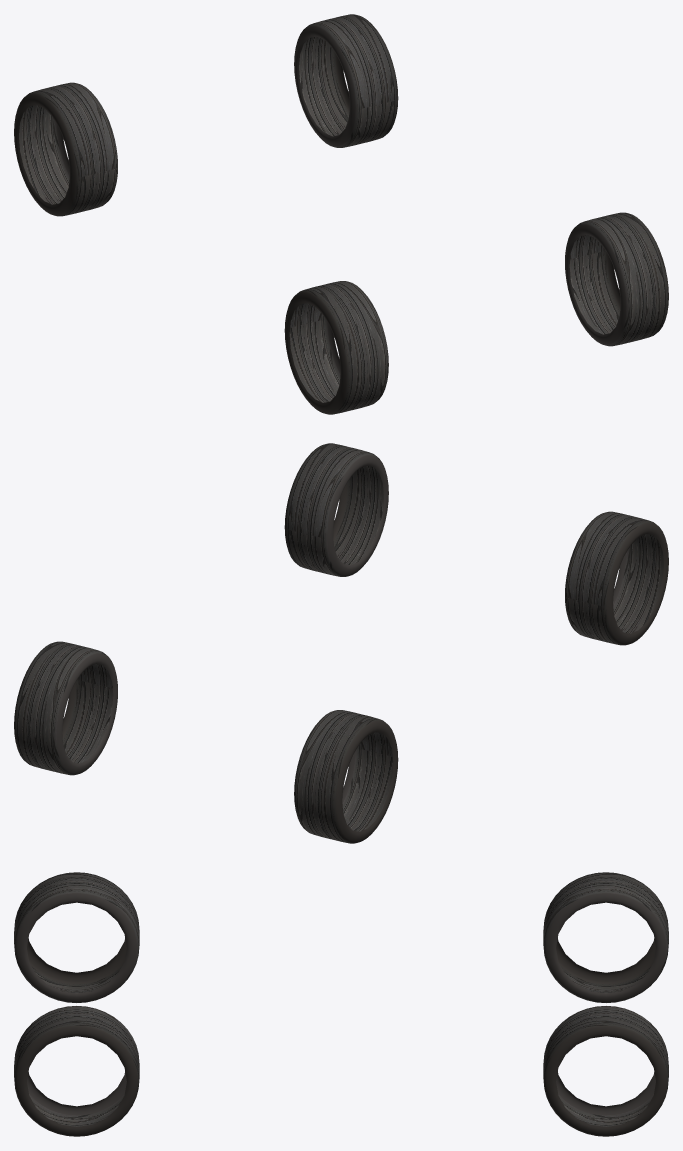
The model's file is rcfTires.obj.
3 views of the same model, one above another, from view 1: azimuth 30°, elevation 25°; view 2: azimuth 150°, elevation 25°; view 3: azimuth 270°, elevation 25° (orthographic). The views are drawn at different scales.
Visible parts, largest first — view 1: rcfTires; view 2: rcfTires; view 3: rcfTires.
Boxes of the visible parts, x1,y1,x2,y2 form: rcfTires: (14, 14, 668, 414); rcfTires: (14, 443, 668, 843); rcfTires: (14, 872, 668, 1136).
Bounding box in the file's own units: 181 × 61.84 × 322.
1 material, 1 textured.
